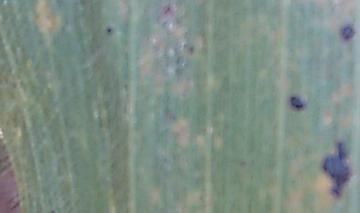tarspot: (317, 139, 356, 198), (288, 95, 306, 113), (339, 24, 356, 42), (162, 1, 173, 17), (185, 44, 195, 56), (104, 26, 113, 34), (48, 208, 55, 213)
